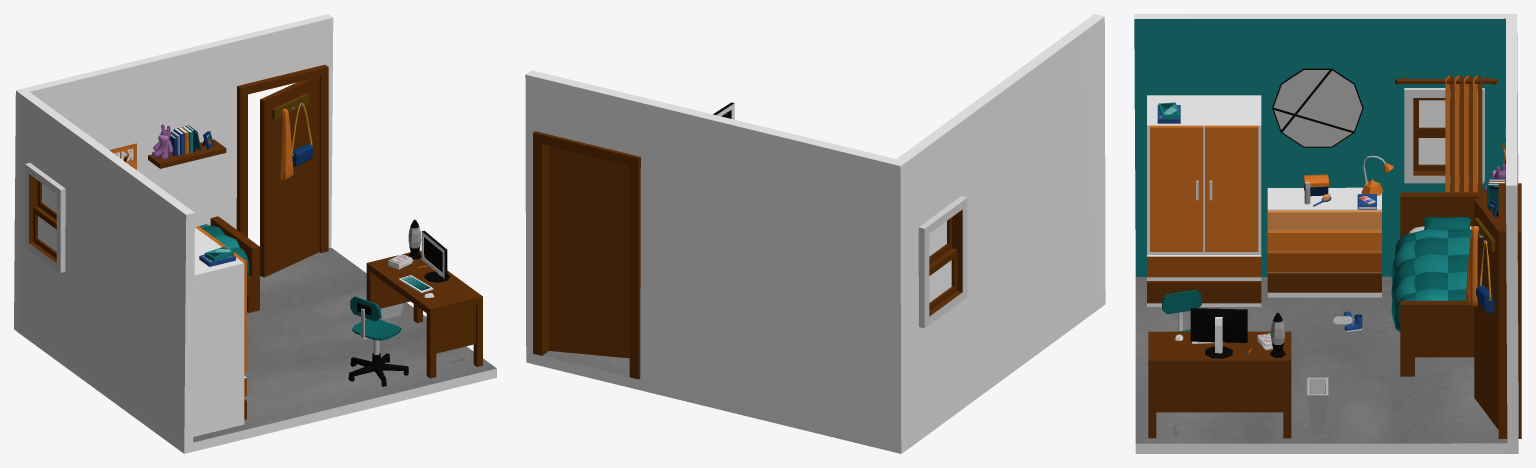
File: Room_Final.fbx
The picture shows the model from 3 angles, left to right: view 1: azimuth 30°, elevation 25°; view 2: azimuth 150°, elevation 25°; view 3: azimuth 270°, elevation 25°; orthographic projection. The views are drawn at different scales.
Parts seen in each view (by area): view 1: Wals, Door, Wardrobe, Desk, Window, Chair, Bed, Hanger, Monitor, Shelf, Books, Purse (+1 smaller); view 2: Wals, Door, Window; view 3: Wals, Wardrobe, Bed, BedsiteTable, Desk, Door, Mirror, Blinds, Window, Monitor, Hanger, TrashCan (+5 smaller).
Boxes of the visible parts, box(x1,y1,x2,y2) form: Wals: box(14, 14, 496, 453); Door: box(236, 64, 328, 277); Wardrobe: box(193, 226, 246, 436); Desk: box(366, 250, 482, 378); Window: box(25, 163, 65, 272); Chair: box(348, 296, 408, 386); Bed: box(199, 216, 259, 312); Hanger: box(272, 93, 308, 179); Monitor: box(421, 230, 450, 282); Shelf: box(148, 139, 226, 168); Books: box(169, 125, 201, 156); Purse: box(291, 102, 313, 166); Wals: box(525, 14, 1105, 453); Door: box(533, 131, 640, 379); Window: box(918, 196, 967, 328); Wals: box(1134, 14, 1518, 453); Wardrobe: box(1147, 95, 1261, 306); Bed: box(1391, 192, 1479, 376); BedsiteTable: box(1267, 187, 1381, 297); Desk: box(1148, 331, 1291, 438); Door: box(1474, 183, 1521, 438); Mirror: box(1272, 68, 1363, 147); Blinds: box(1394, 74, 1497, 192); Window: box(1404, 88, 1484, 183); Monitor: box(1190, 308, 1247, 358); Hanger: box(1465, 217, 1495, 306); TrashCan: box(1307, 377, 1328, 433).
Size of the model in its own units: 361 by 260 by 339.
